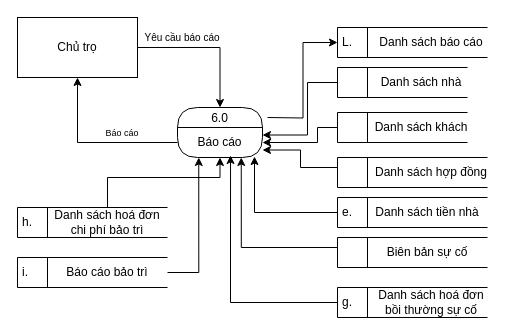
Image size: 509x335. Some labels were removed from this diagram. The shapes that lost their labels are listed below. From the top down, each one's box as (x1, y1, x2, y2) in pixels, then its label:
(336, 66, 468, 98): a.
(336, 112, 468, 142): b.
(336, 156, 488, 188): c.
(336, 236, 488, 268): f.
